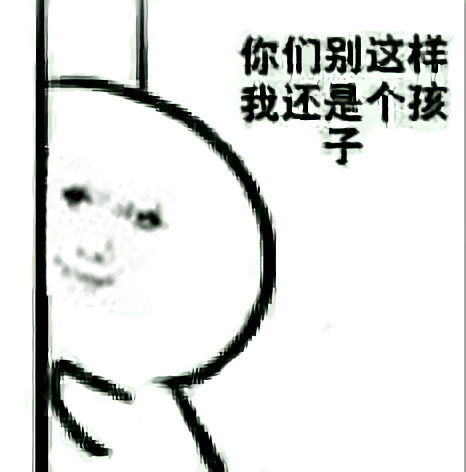dragon: (51, 183, 165, 292)
